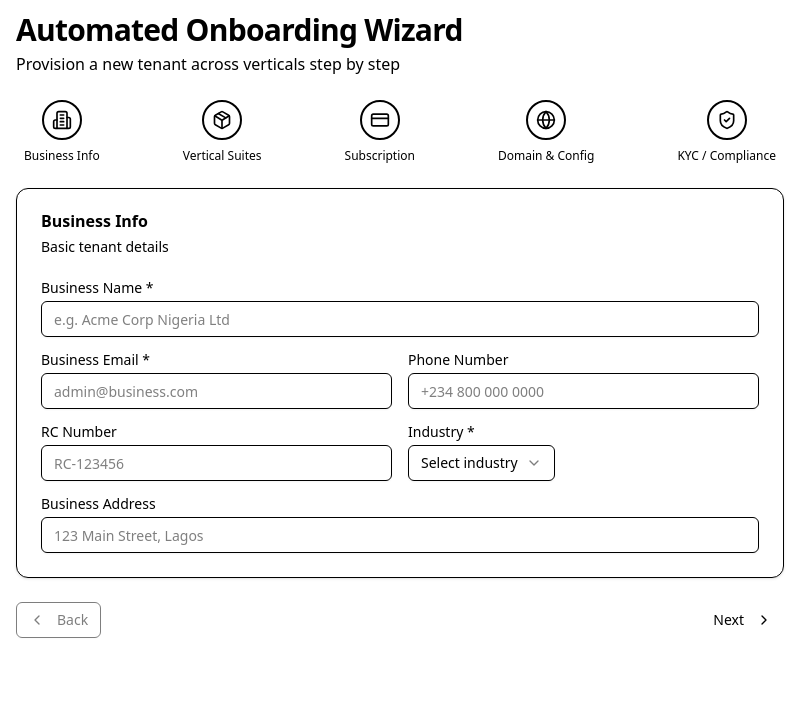
Scenario: Automated Onboarding Wizard (QA-SUP-3) › shows validation error if Next is clicked without a business name
Click the button "Next" at coordinates (743, 620), box [701,602,784,638]
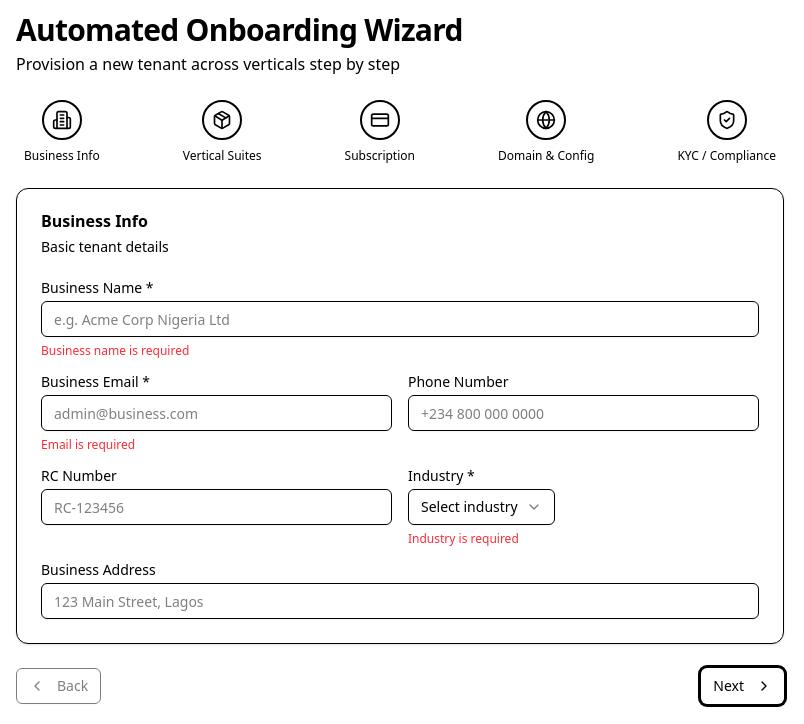
Now the text "Business name is required" is shown, box [41,342,189,359]
